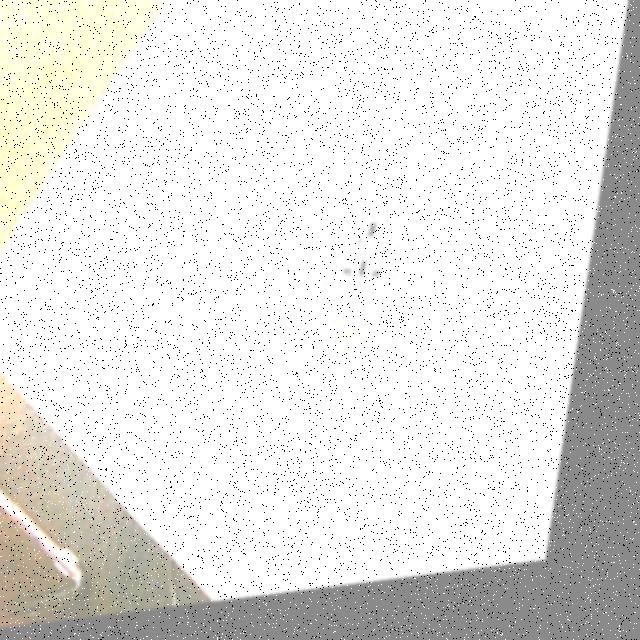adapter: (323, 213, 420, 352)
